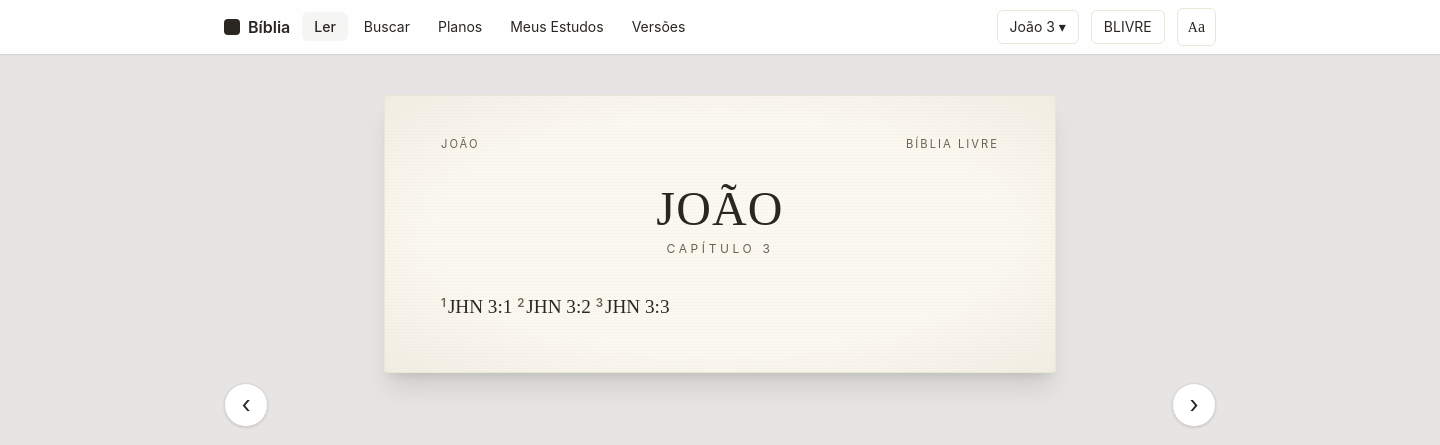
Test: Configurar leitura — botão "Aa" (UC12) › aumenta e diminui o texto dentro dos limites e salva
Step 1. Click the button with aria-label "Aparência da leitura" → (1196, 27), box x1=1177 y1=8 x2=1216 y2=46
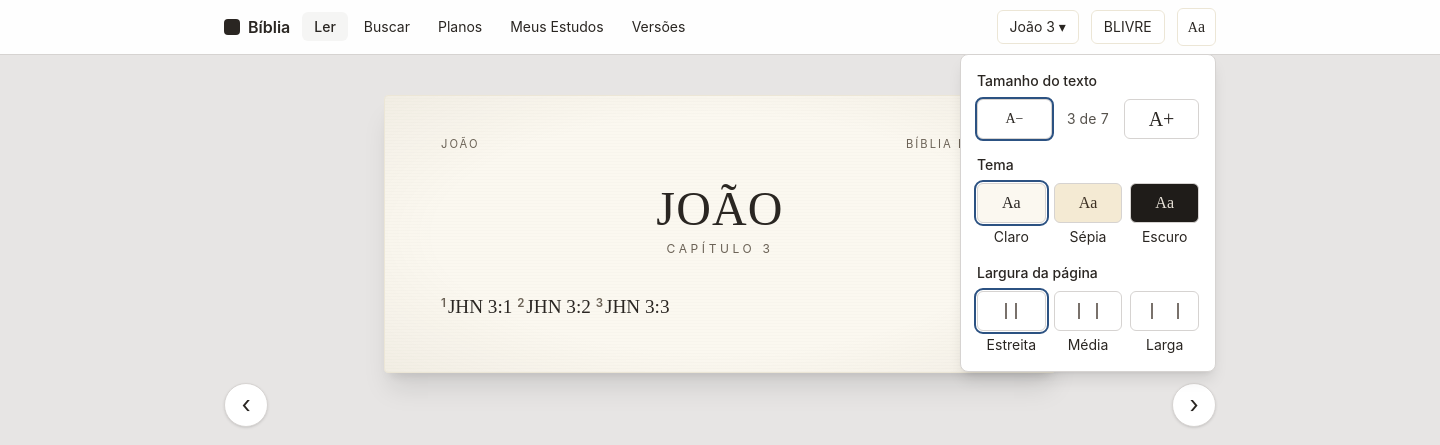
Expected: the text "3 de 7" is shown, x1=1067 y1=110 x2=1109 y2=127
Step 2. Click the button named "Aumentar o texto" → (1162, 119), box x1=1124 y1=99 x2=1199 y2=139
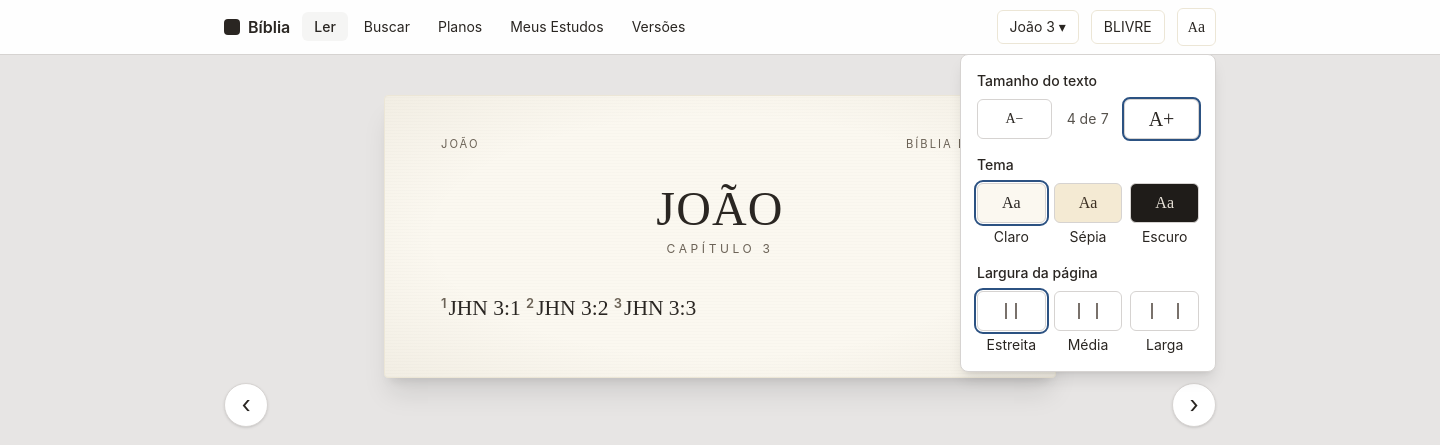
Expected: the text "4 de 7" is shown, x1=1067 y1=110 x2=1109 y2=127
Step 3. Click the button named "Aumentar o texto" → (1162, 119), box x1=1124 y1=99 x2=1199 y2=139
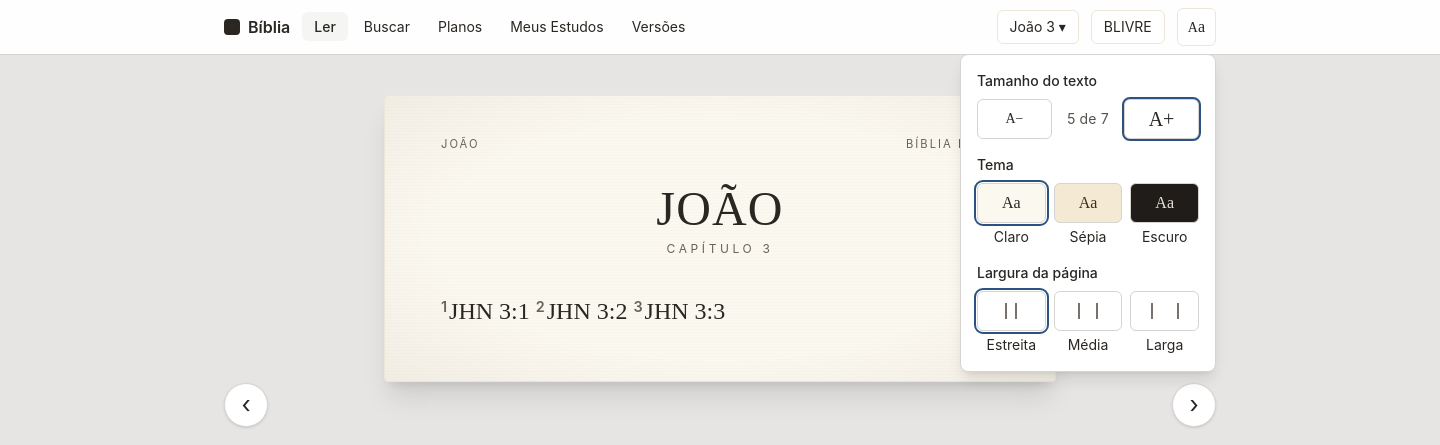
Step 4. Click the button named "Aumentar o texto" → (1162, 119), box x1=1124 y1=99 x2=1199 y2=139
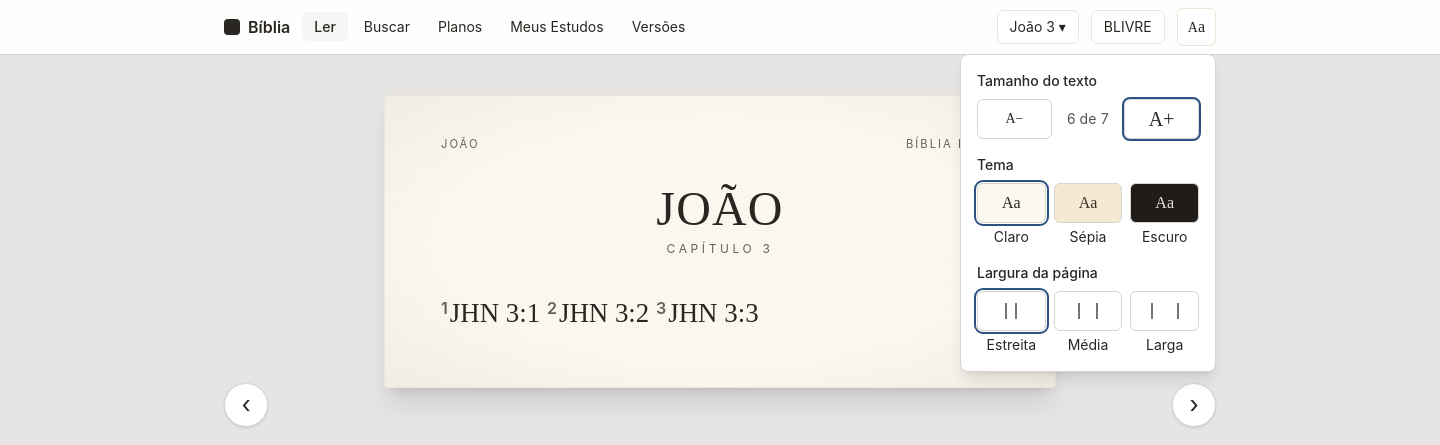
Step 5. Click the button named "Aumentar o texto" → (1162, 119), box x1=1124 y1=99 x2=1199 y2=139
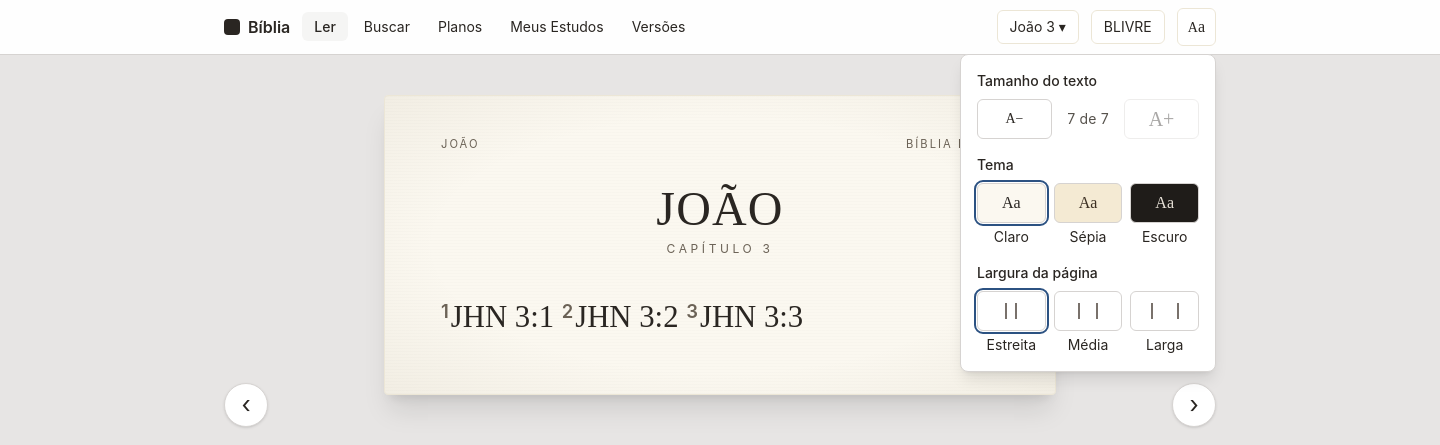
Expected: the button named "Aumentar o texto" is disabled, x1=1124 y1=99 x2=1199 y2=139
Expected: the text "7 de 7" is shown, x1=1067 y1=110 x2=1109 y2=127
